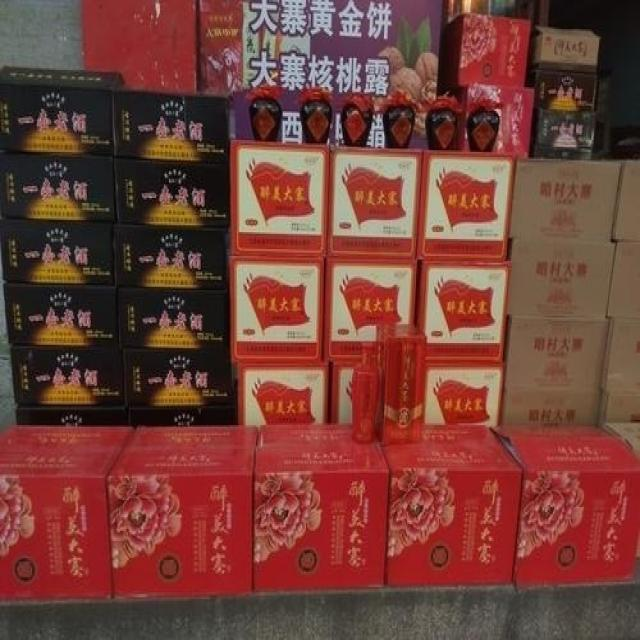box: (105, 426, 258, 598), (1, 423, 136, 603), (251, 418, 392, 590), (198, 3, 442, 101), (494, 424, 639, 588), (382, 424, 523, 583), (225, 92, 437, 151), (230, 137, 331, 257), (326, 143, 425, 259), (415, 151, 516, 261), (2, 65, 125, 153), (82, 0, 198, 93), (231, 254, 326, 364), (323, 257, 419, 362), (506, 237, 617, 321), (417, 260, 509, 361), (509, 159, 623, 239), (111, 85, 228, 162), (1, 148, 117, 221), (114, 155, 227, 228), (503, 316, 610, 391), (1, 214, 115, 282), (432, 81, 533, 157), (115, 221, 227, 288), (117, 282, 231, 347), (439, 14, 530, 94), (9, 344, 125, 405), (440, 1, 549, 64), (3, 284, 119, 343), (120, 344, 232, 405), (378, 321, 428, 445), (238, 359, 329, 424), (424, 361, 505, 423), (498, 387, 603, 422), (528, 105, 594, 160), (521, 65, 596, 110), (526, 28, 600, 71), (603, 317, 639, 393), (127, 404, 235, 427), (608, 238, 639, 316), (15, 405, 128, 426), (612, 160, 639, 241), (326, 363, 354, 423), (606, 423, 639, 461), (599, 392, 639, 422)
